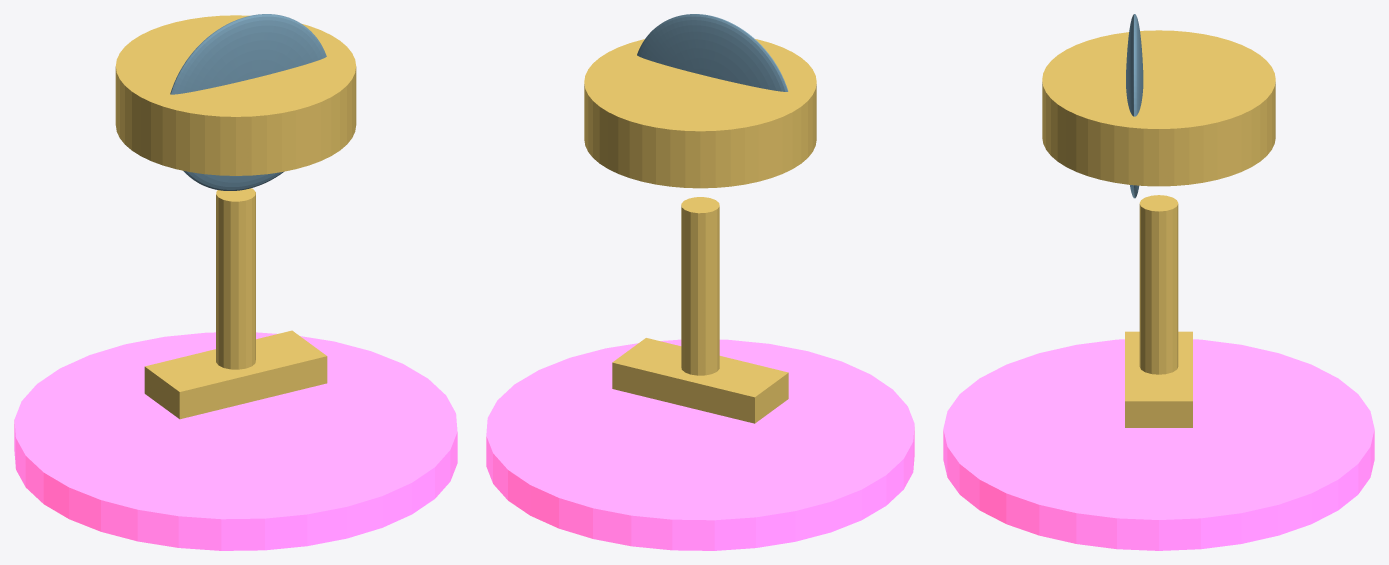
File: beauty_vanity_mirror.glb
3 renders of one model, left to right at view 1: azimuth 30°, elevation 25°; view 2: azimuth 150°, elevation 25°; view 3: azimuth 270°, elevation 25°, orthographic. The views are drawn at different scales.
Visible parts, largest first — view 1: 03_20_Popular_Beauty_Vanity_Mirror_ROOT_base, 03_20_Popular_Beauty_Vanity_Mirror_part_01, 03_20_Popular_Beauty_Vanity_Mirror_part_03, 03_20_Popular_Beauty_Vanity_Mirror_part_04, 03_20_Popular_Beauty_Vanity_Mirror_part_02; view 2: 03_20_Popular_Beauty_Vanity_Mirror_ROOT_base, 03_20_Popular_Beauty_Vanity_Mirror_part_01, 03_20_Popular_Beauty_Vanity_Mirror_part_03, 03_20_Popular_Beauty_Vanity_Mirror_part_04, 03_20_Popular_Beauty_Vanity_Mirror_part_02; view 3: 03_20_Popular_Beauty_Vanity_Mirror_ROOT_base, 03_20_Popular_Beauty_Vanity_Mirror_part_01, 03_20_Popular_Beauty_Vanity_Mirror_part_02, 03_20_Popular_Beauty_Vanity_Mirror_part_03, 03_20_Popular_Beauty_Vanity_Mirror_part_04.
Part boxes in pixels (x1,y1,x2,y2): 03_20_Popular_Beauty_Vanity_Mirror_ROOT_base: (14, 332, 457, 550); 03_20_Popular_Beauty_Vanity_Mirror_part_01: (115, 15, 356, 175); 03_20_Popular_Beauty_Vanity_Mirror_part_03: (144, 330, 327, 419); 03_20_Popular_Beauty_Vanity_Mirror_part_04: (170, 14, 326, 190); 03_20_Popular_Beauty_Vanity_Mirror_part_02: (216, 188, 255, 369); 03_20_Popular_Beauty_Vanity_Mirror_ROOT_base: (486, 339, 914, 550); 03_20_Popular_Beauty_Vanity_Mirror_part_01: (584, 39, 816, 188); 03_20_Popular_Beauty_Vanity_Mirror_part_03: (612, 338, 788, 423); 03_20_Popular_Beauty_Vanity_Mirror_part_04: (637, 14, 788, 91); 03_20_Popular_Beauty_Vanity_Mirror_part_02: (681, 197, 719, 375); 03_20_Popular_Beauty_Vanity_Mirror_ROOT_base: (943, 339, 1374, 550); 03_20_Popular_Beauty_Vanity_Mirror_part_01: (1042, 30, 1275, 186); 03_20_Popular_Beauty_Vanity_Mirror_part_02: (1139, 195, 1178, 374); 03_20_Popular_Beauty_Vanity_Mirror_part_03: (1125, 331, 1192, 427); 03_20_Popular_Beauty_Vanity_Mirror_part_04: (1126, 14, 1143, 198).
Size of the model in its own units: 0.76 by 0.85 by 0.76.
